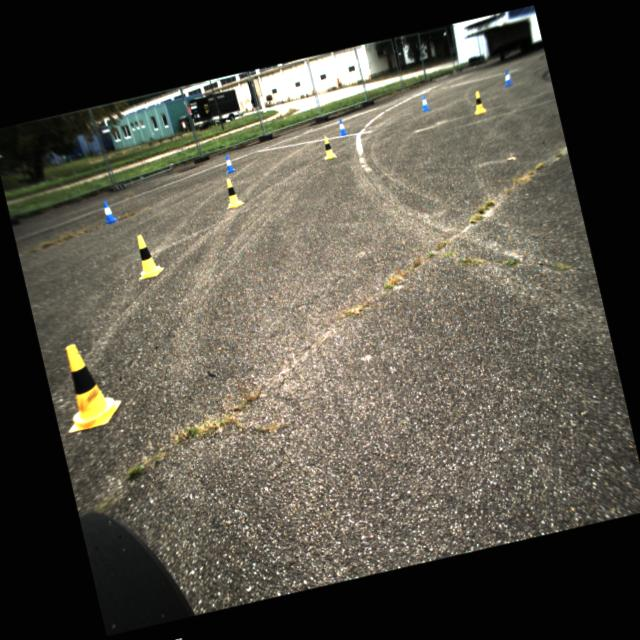blue_cone: (100, 198, 117, 224), (222, 154, 235, 174), (336, 118, 348, 136), (501, 69, 513, 87), (418, 94, 429, 111)
yellow_cone: (50, 337, 125, 432), (130, 232, 164, 280), (220, 176, 244, 209), (319, 135, 337, 160), (469, 90, 486, 114)
